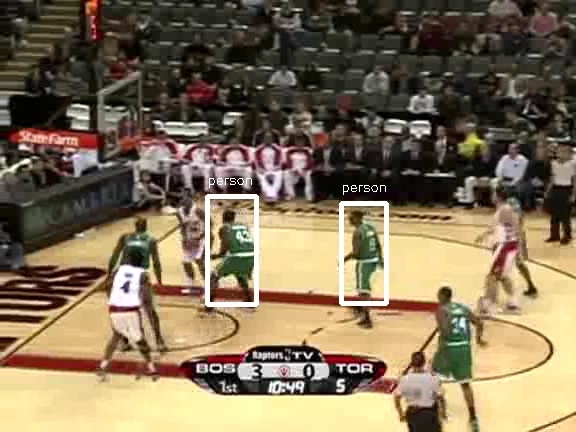person: (352, 217, 386, 298), (351, 217, 385, 298), (353, 217, 387, 298), (352, 216, 386, 297), (352, 218, 386, 299)
target_negative: (56, 214, 470, 421), (74, 77, 537, 132), (83, 397, 391, 422), (322, 34, 363, 172), (63, 1, 75, 335), (546, 239, 555, 260)
